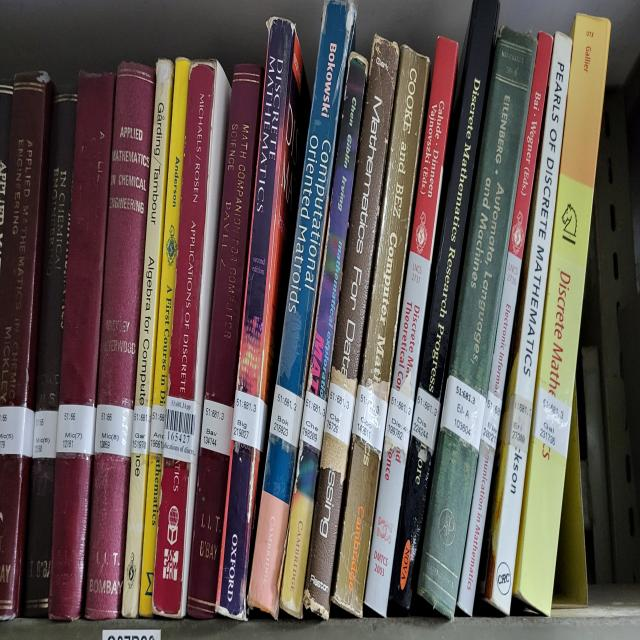Book: (419, 30, 535, 617), (390, 0, 499, 609), (249, 0, 355, 617), (514, 14, 610, 614), (332, 46, 430, 617), (458, 32, 552, 614), (365, 38, 458, 617), (215, 19, 302, 620), (485, 32, 571, 611), (280, 54, 368, 617), (152, 62, 231, 617), (85, 65, 155, 620), (49, 70, 115, 620), (122, 60, 174, 617), (139, 60, 190, 617), (24, 92, 78, 617), (332, 35, 399, 379), (205, 65, 264, 406)
Label: (441, 376, 486, 449), (532, 387, 571, 457), (352, 384, 388, 455), (164, 395, 201, 463), (231, 390, 268, 452), (94, 403, 134, 457), (270, 384, 304, 446), (56, 403, 96, 455), (324, 381, 355, 446), (201, 398, 234, 457), (385, 387, 414, 452), (411, 387, 440, 452), (505, 395, 532, 455), (300, 390, 326, 449), (32, 409, 58, 457), (481, 390, 502, 449), (131, 406, 151, 455), (150, 403, 166, 455)
